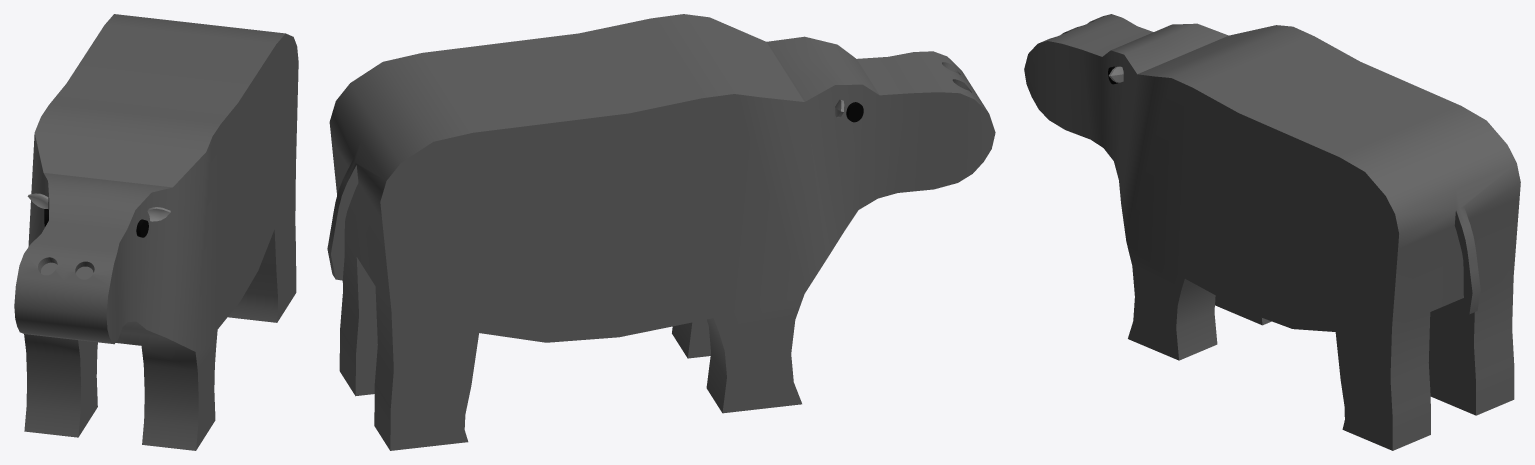
File: hippopotamus.gltf
3 views of the same model, side by side, from view 1: azimuth 30°, elevation 25°; view 2: azimuth 150°, elevation 25°; view 3: azimuth 270°, elevation 25° (orthographic). The views are drawn at different scales.
Parts seen in each view (by area): view 1: Plane.137, Cube.6241; view 2: Plane.137; view 3: Plane.137.
Boxes of the visible parts, x1=… form: Plane.137: x1=14, y1=14, x2=298, y2=450; Cube.6241: x1=27, y1=193, x2=170, y2=221; Plane.137: x1=327, y1=14, x2=995, y2=450; Plane.137: x1=1024, y1=14, x2=1520, y2=450.
Size of the model in its own units: 2.22 by 1.38 by 2.22.
Materials: 1 (1 with a texture image).
